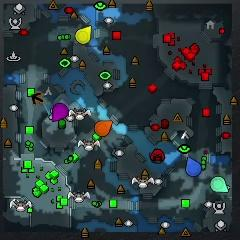p1: (185, 156, 203, 176)
p2: (211, 176, 228, 192)
p3: (52, 102, 69, 122)
p4: (76, 26, 92, 44)
p5: (95, 121, 113, 137)
x5Clone: (31, 91, 43, 104)
